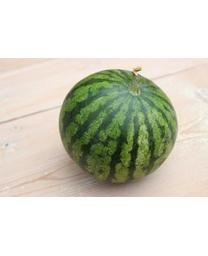watermelon: (59, 68, 179, 187)
